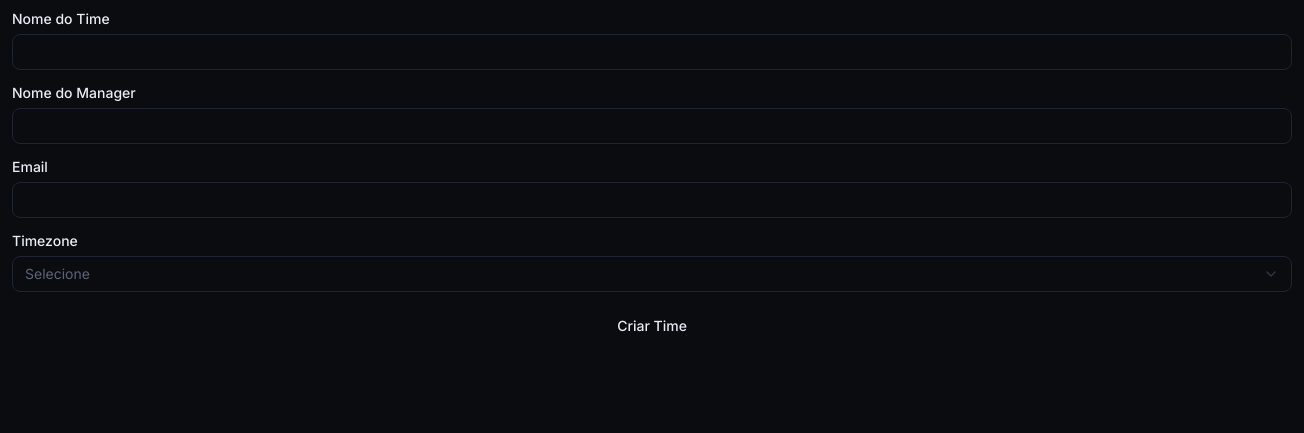
TeamCreateForm › shows multiple validation errors on partial submit
Type "Lero Lero" into the field labelled "Nome do Time".
click(652, 52); type("Lero Lero")  # box [12,34,1292,70]
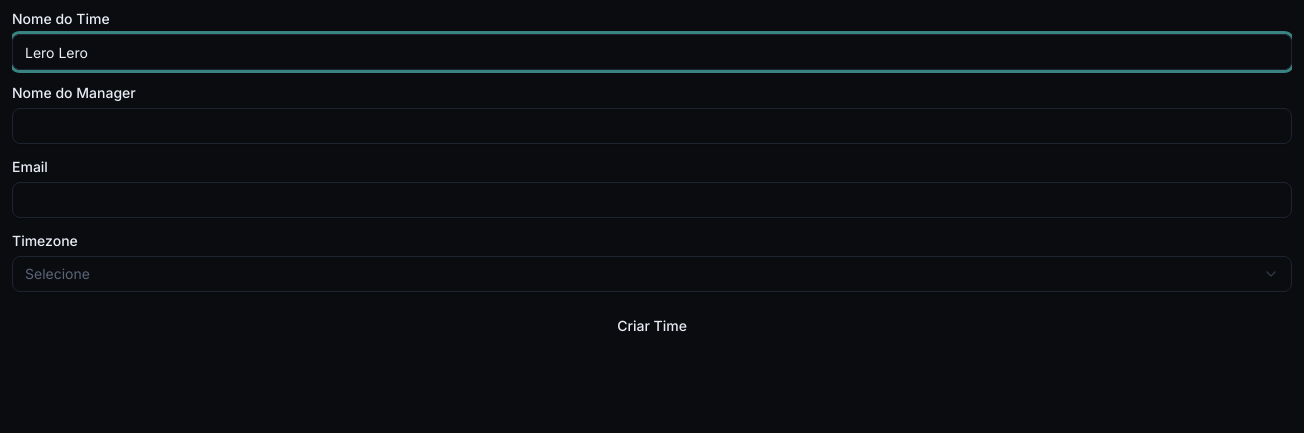
Click the button "Criar Time".
click(652, 326)  # box [12,308,1292,344]
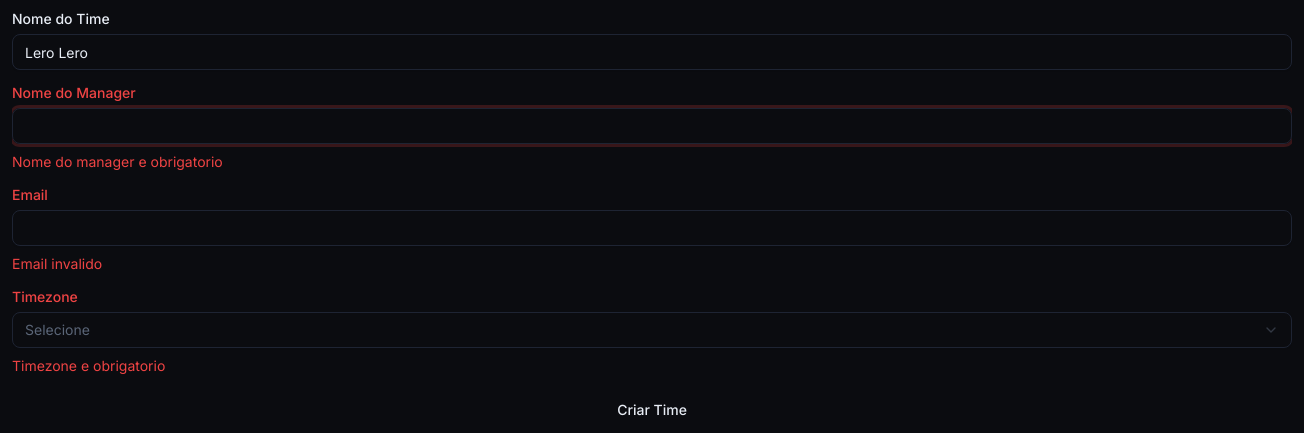
Check: the text "Nome do manager e obrigatorio" is shown, box [12,153,223,170]
Check: the text "Timezone e obrigatorio" is shown, box [12,357,165,374]
